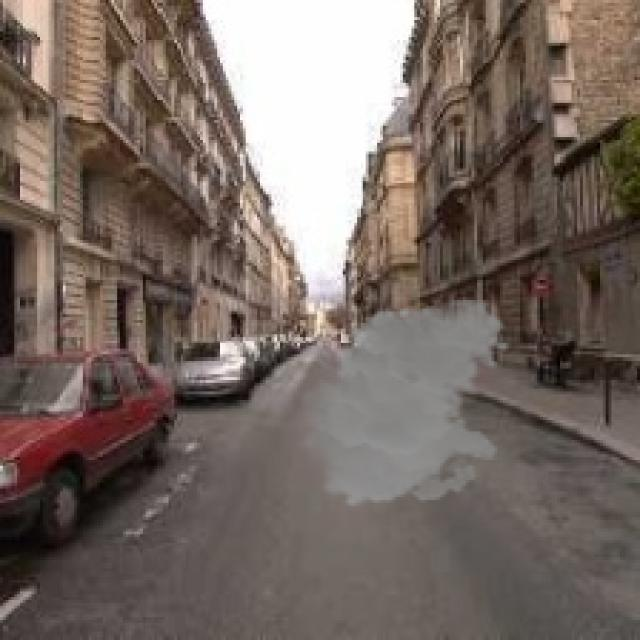smoke: (292, 297, 512, 509)
